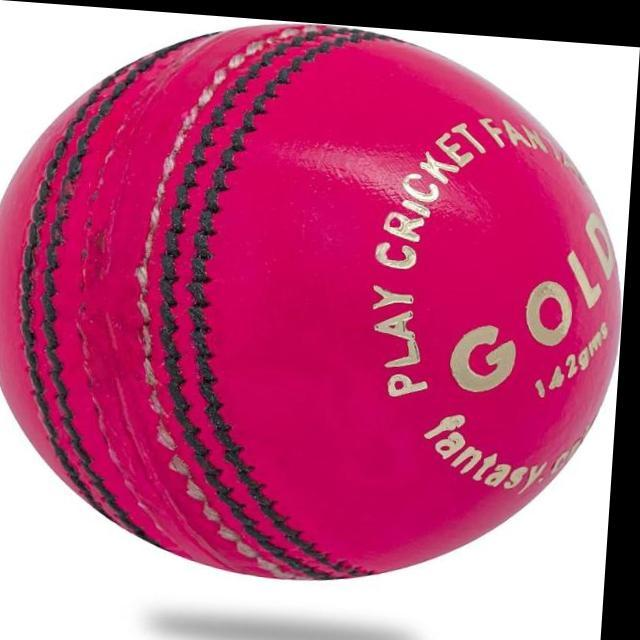cricket ball: (0, 18, 624, 576)
